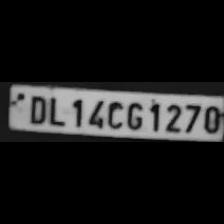0: (200, 102, 222, 134)
1: (64, 95, 84, 127), (144, 99, 162, 131)
2: (161, 100, 183, 132)
4: (84, 97, 106, 128)
7: (180, 100, 200, 132)
C: (104, 98, 124, 130)
D: (24, 92, 48, 124)
G: (124, 99, 144, 130)
L: (45, 94, 65, 126)
